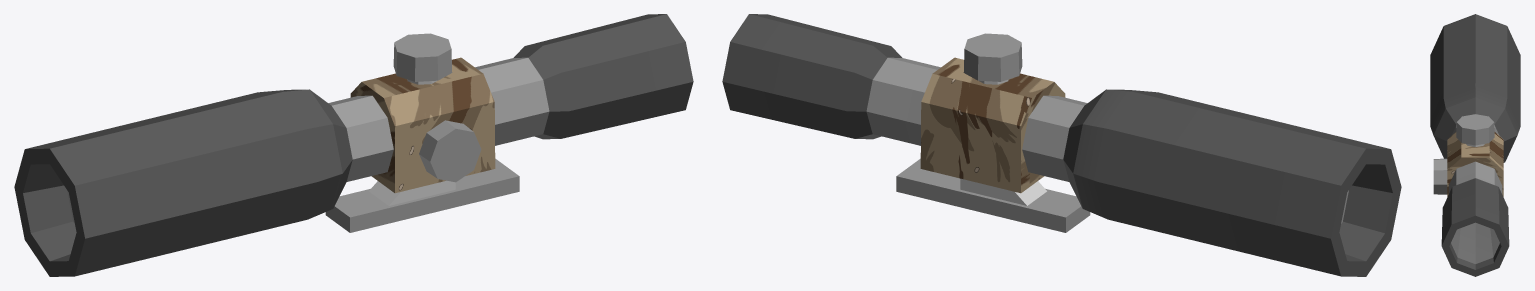
Rendered from SM_ScopeB.fbx.
The picture shows the model from 3 angles, left to right: view 1: azimuth 30°, elevation 25°; view 2: azimuth 150°, elevation 25°; view 3: azimuth 270°, elevation 25°; orthographic projection. The views are drawn at different scales.
Parts seen in each view (by area): view 1: SM_ScopeB; view 2: SM_ScopeB; view 3: SM_ScopeB.
Part boxes in pixels (x1=…): SM_ScopeB: x1=14, y1=14, x2=693, y2=276; SM_ScopeB: x1=722, y1=14, x2=1401, y2=276; SM_ScopeB: x1=1430, y1=14, x2=1520, y2=276.
Bounding box in the file's own units: 28.19 × 6.89 × 5.6.
